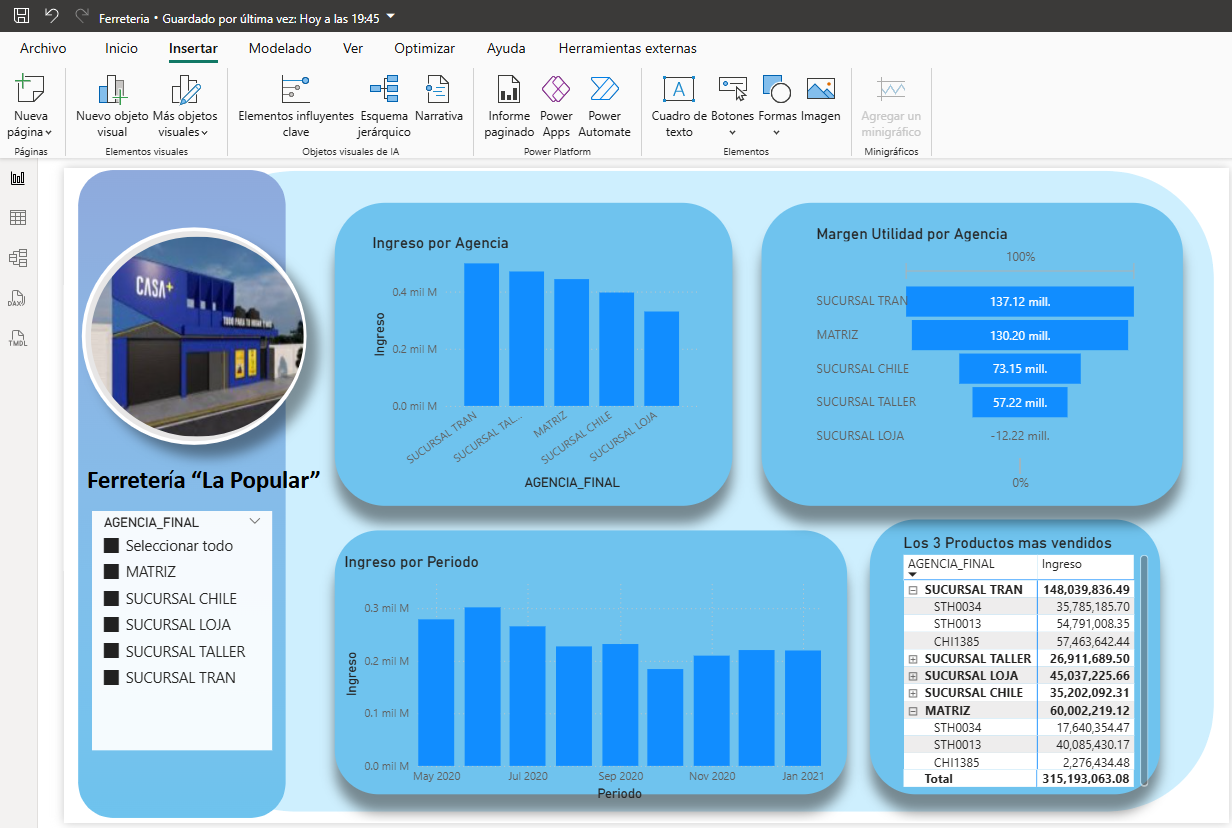

What the dashboard file says about the page in this screenshot:
{"tool":"powerbi","page":{"name":"Analisis por agencia","canvas":[1280,720],"ordinal":1},"visuals":[{"type":"lineClusteredColumnComboChart","title":"Ingreso por Agencia","fields":{"Category":["Agencia.AGENCIA_FINAL"],"Y":["DAX.Ingreso"]},"box":[334,71,368,287],"z":0},{"type":"funnel","title":"Margen Utilidad por Agencia","fields":{"Category":["Agencia.AGENCIA_FINAL"],"Y":["DAX.Margen $"]},"box":[822,61.5,363.7,298.9],"z":1000},{"type":"lineStackedColumnComboChart","fields":{"Category":["Calendario.Periodo"],"Y":["DAX.Ingreso"]},"box":[303.3,422,539.6,278],"z":2000},{"type":"slicer","fields":{"Values":["Agencia.AGENCIA_FINAL"]},"box":[30.8,376.9,197.8,262.6],"z":3000},{"type":"pivotTable","title":"Los 3 Productos mas vendidos ","fields":{"Rows":["AgenciaProducto.AGENCIA_FINAL","AgenciaProducto.CODALTERNC"],"Values":["DAX.Ingreso"]},"box":[917.6,401.1,279.1,283.5],"z":3001}]}

Visuals, with their boxes on the page's 1280x720 design canvas (x1, y1, x2, y2). These are canvas units, not pixel positions in the 1232x828 screenshot, which may show the page scaled, cropped or inside an application window:
"Ingreso por Agencia" lineClusteredColumnComboChart: l=334, t=71, r=702, b=358
"Margen Utilidad por Agencia" funnel: l=822, t=62, r=1186, b=360
lineStackedColumnComboChart - Calendario.Periodo x DAX.Ingreso: l=303, t=422, r=843, b=700
slicer - Agencia.AGENCIA_FINAL: l=31, t=377, r=229, b=640
"Los 3 Productos mas vendidos " pivotTable: l=918, t=401, r=1197, b=685
